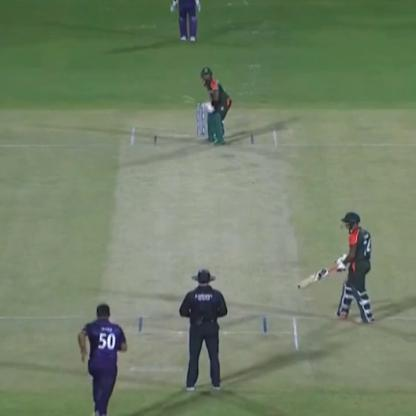bat: (290, 262, 341, 296), (180, 90, 212, 114)
pitch: (112, 123, 306, 359)
